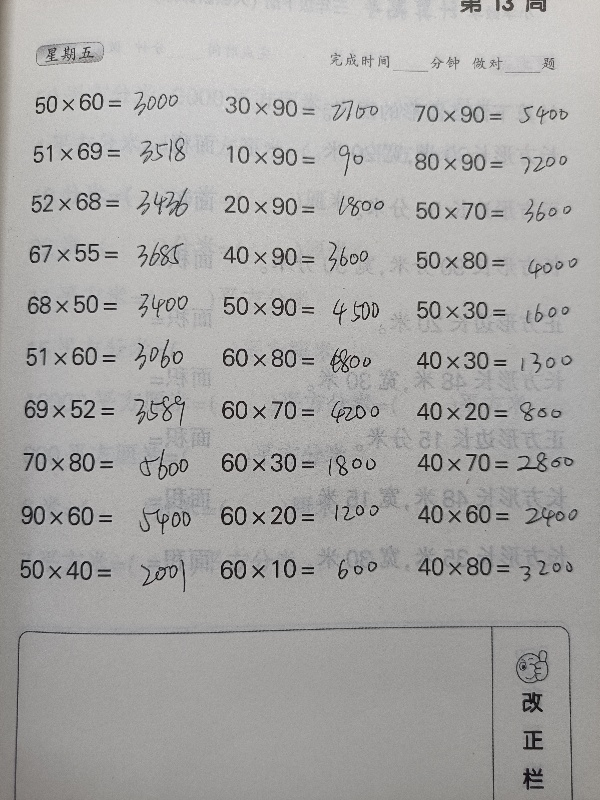equation: (409, 549, 589, 587), (409, 444, 589, 480), (408, 394, 588, 430), (11, 552, 191, 587), (211, 551, 391, 586), (212, 498, 392, 533), (13, 498, 193, 533), (409, 496, 589, 531), (213, 445, 393, 480), (15, 445, 195, 480), (213, 340, 393, 375), (17, 338, 197, 373), (214, 238, 394, 273), (20, 235, 200, 270), (215, 188, 395, 223), (213, 393, 393, 427), (16, 392, 196, 426), (408, 343, 588, 377), (409, 293, 589, 327), (214, 289, 394, 323), (18, 287, 198, 321), (22, 185, 202, 219), (217, 139, 397, 173), (408, 244, 588, 277), (408, 195, 588, 228), (407, 146, 587, 179), (24, 135, 204, 168), (406, 98, 586, 131), (217, 90, 397, 123), (26, 86, 206, 119)
